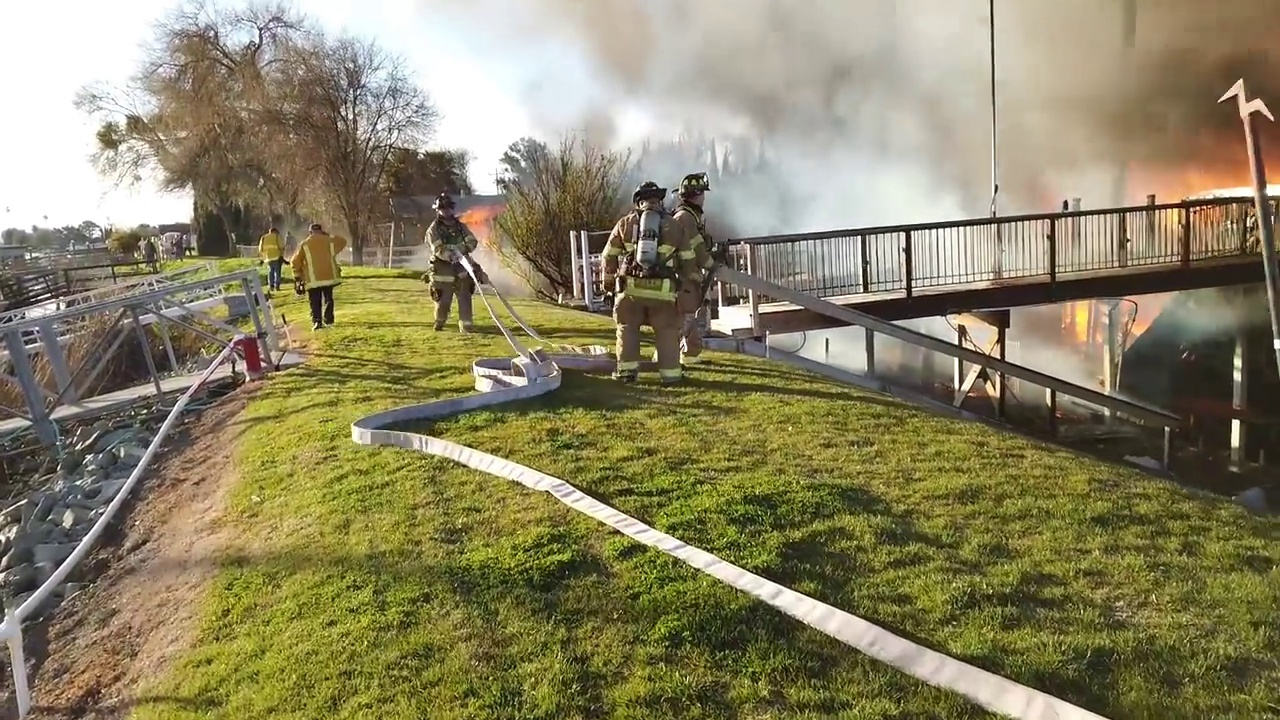fire: (1181, 172, 1280, 200), (455, 194, 504, 247)
smoke: (549, 1, 1217, 224), (1156, 288, 1280, 359), (1009, 308, 1108, 393), (881, 335, 954, 406), (474, 247, 547, 310), (776, 332, 866, 371), (401, 241, 427, 276)
